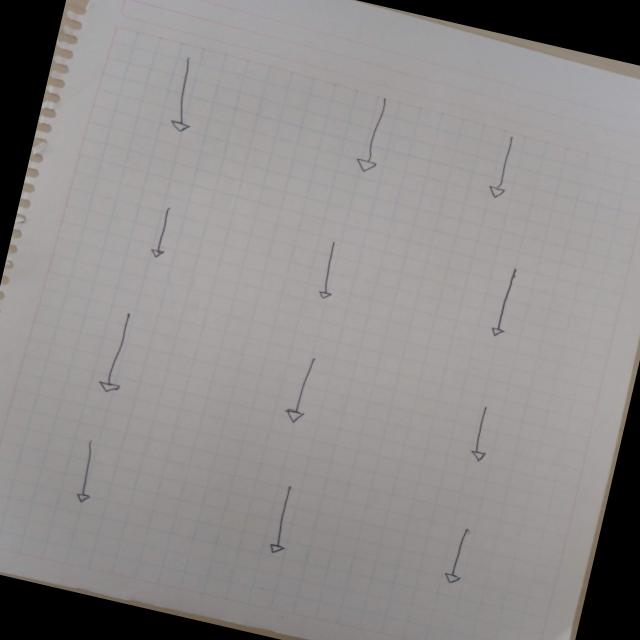arrow_line_down: (158, 58, 212, 140), (349, 94, 397, 182), (94, 306, 138, 399), (60, 433, 112, 511), (483, 262, 532, 342), (302, 235, 353, 308), (140, 197, 190, 268), (272, 352, 318, 427), (260, 478, 302, 560), (480, 128, 524, 204), (458, 404, 508, 469), (434, 525, 478, 595)
